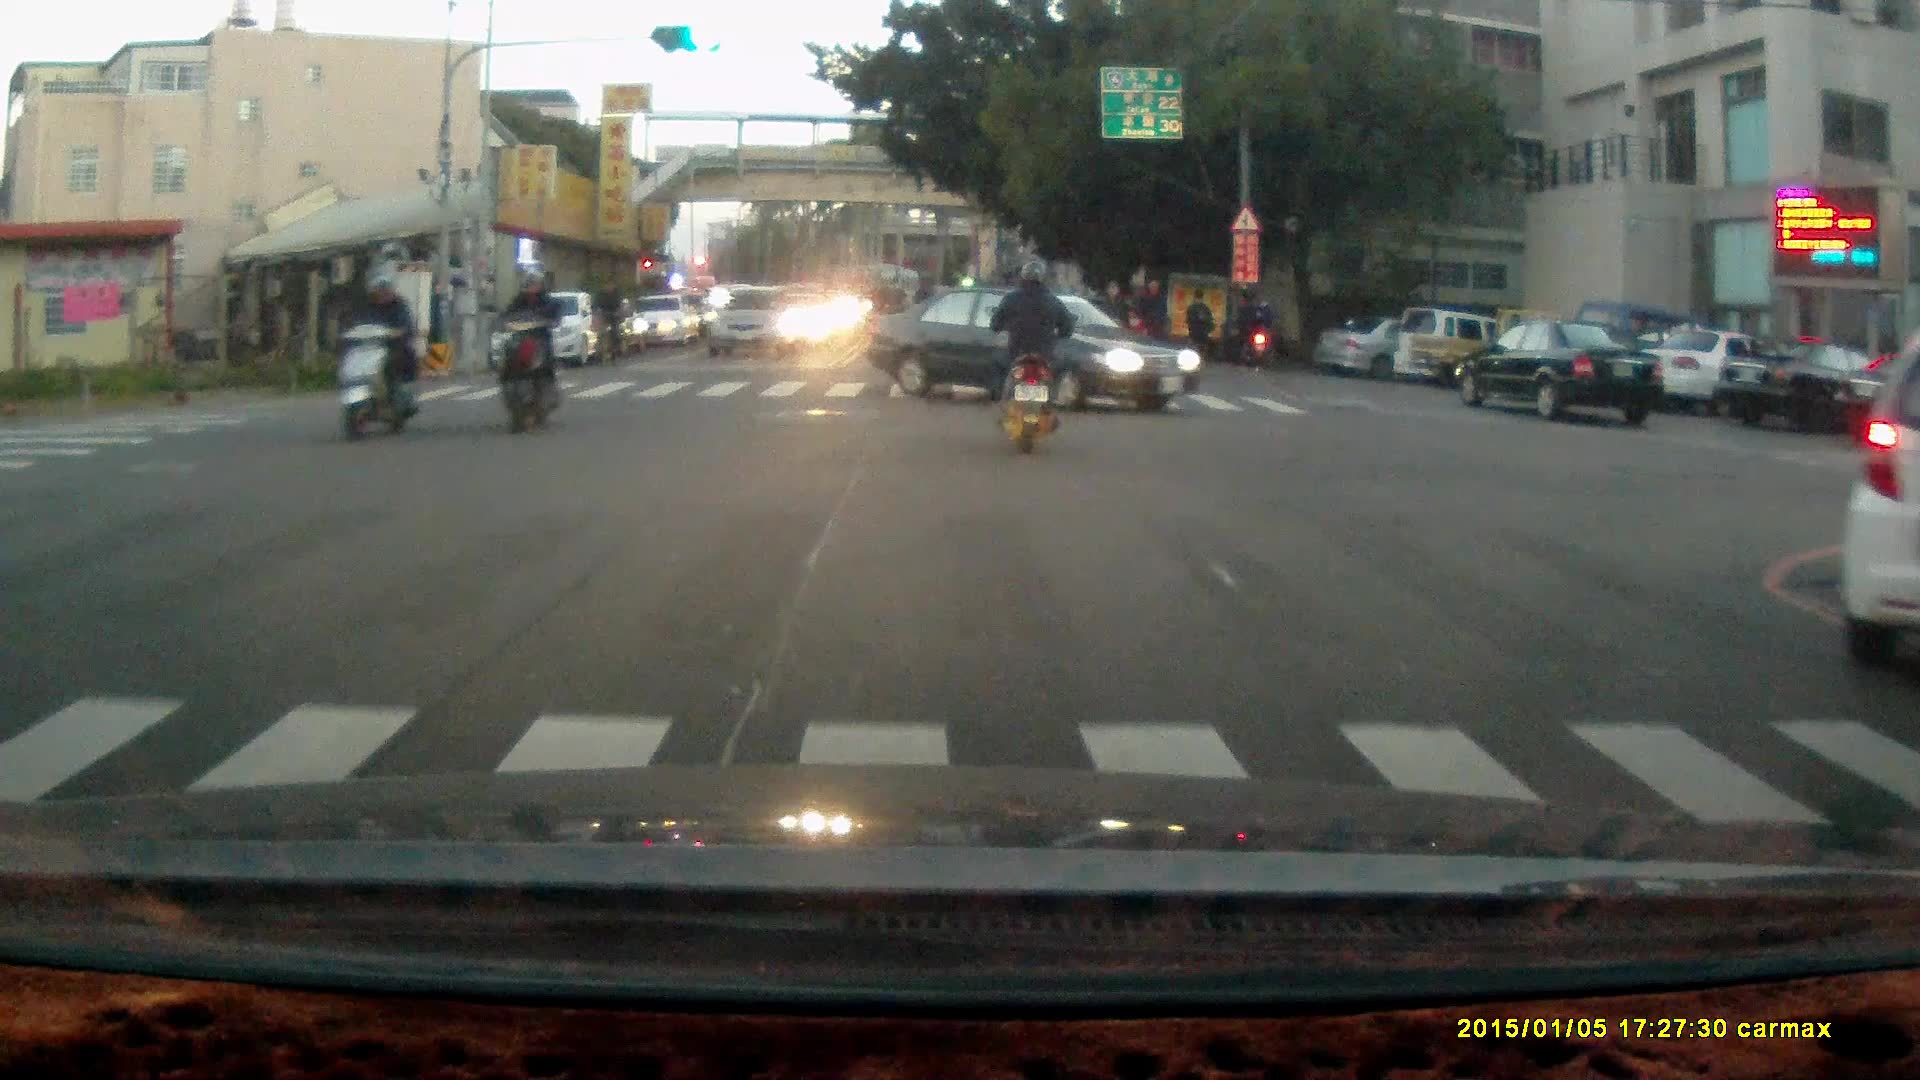pedestrian: (1132, 278, 1167, 368), (1182, 289, 1215, 383), (1096, 279, 1126, 361), (1231, 288, 1262, 365)
rider: (989, 253, 1075, 449), (337, 261, 422, 441), (483, 264, 562, 435), (586, 273, 626, 368), (1237, 297, 1278, 363)
vehicle: (860, 277, 1203, 415), (1459, 317, 1669, 425), (1723, 341, 1907, 441), (1627, 326, 1815, 420), (1313, 312, 1496, 370), (493, 290, 612, 368), (702, 282, 804, 361)
